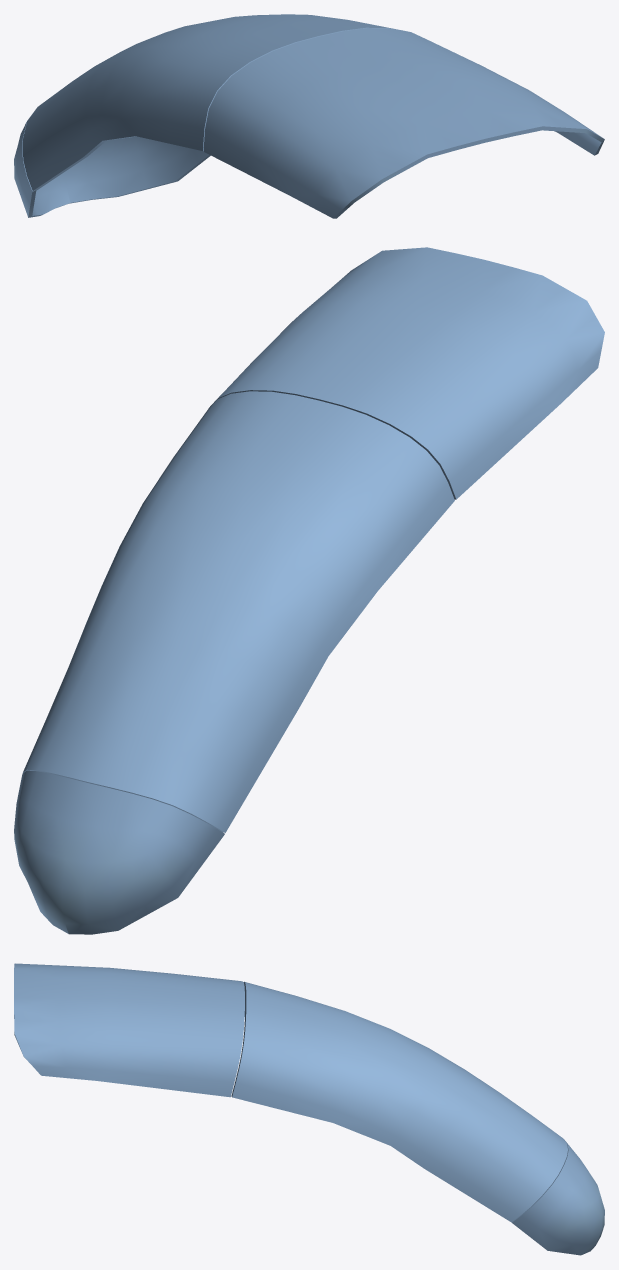
File: e45-canopy.glb
3 renders of one model, top to bottom at view 1: azimuth 30°, elevation 25°; view 2: azimuth 150°, elevation 25°; view 3: azimuth 270°, elevation 25°, orthographic. The views are drawn at different scales.
Parts seen in each view (by area): view 1: ship; view 2: ship; view 3: ship.
Part boxes in pixels (left/top/right/bottom): ship: left=14, top=14, right=604, bottom=218; ship: left=14, top=247, right=604, bottom=934; ship: left=14, top=963, right=604, bottom=1255.
Bounding box in the file's own units: 1.12 × 1.46 × 3.04.
